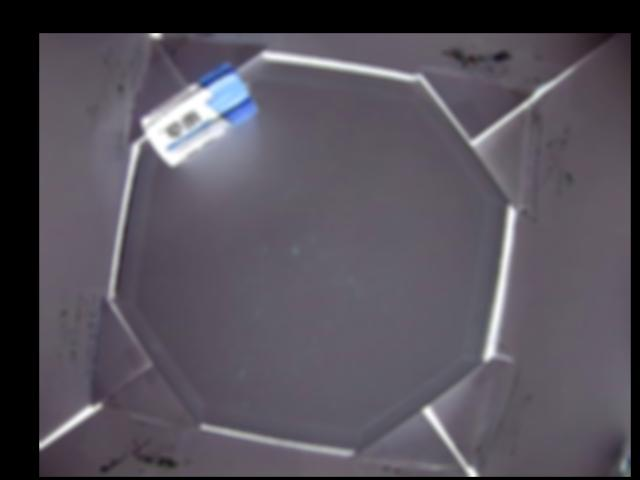Battery: (139, 61, 258, 168)
